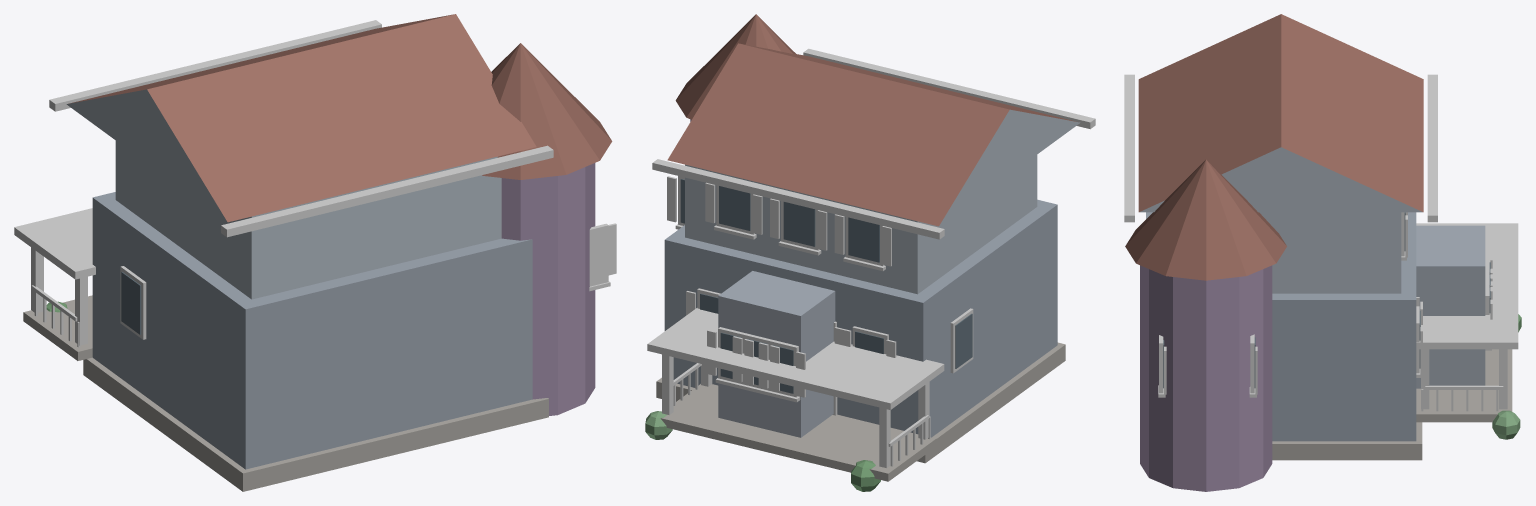
Rendered from victorian_queen.glb.
The picture shows the model from 3 angles, left to right: view 1: azimuth 30°, elevation 25°; view 2: azimuth 150°, elevation 25°; view 3: azimuth 270°, elevation 25°; orthographic projection. The views are drawn at different scales.
Parts seen in each view (by area): view 1: Mesh; view 2: Mesh; view 3: Mesh.
Part boxes in pixels (<box>): Mesh: <box>14,14,616,491</box>; Mesh: <box>645,14,1095,491</box>; Mesh: <box>1124,14,1521,491</box>.
Size of the model in its own units: 14.25 by 11.35 by 13.23.
